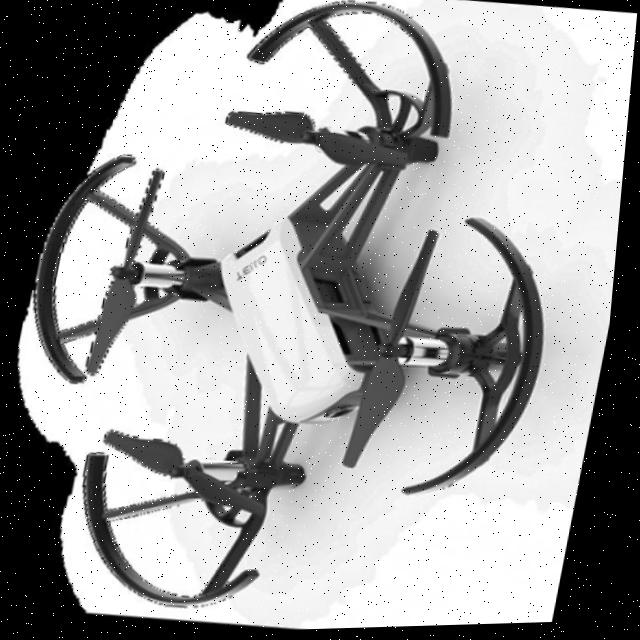drones: (0, 0, 619, 640)
